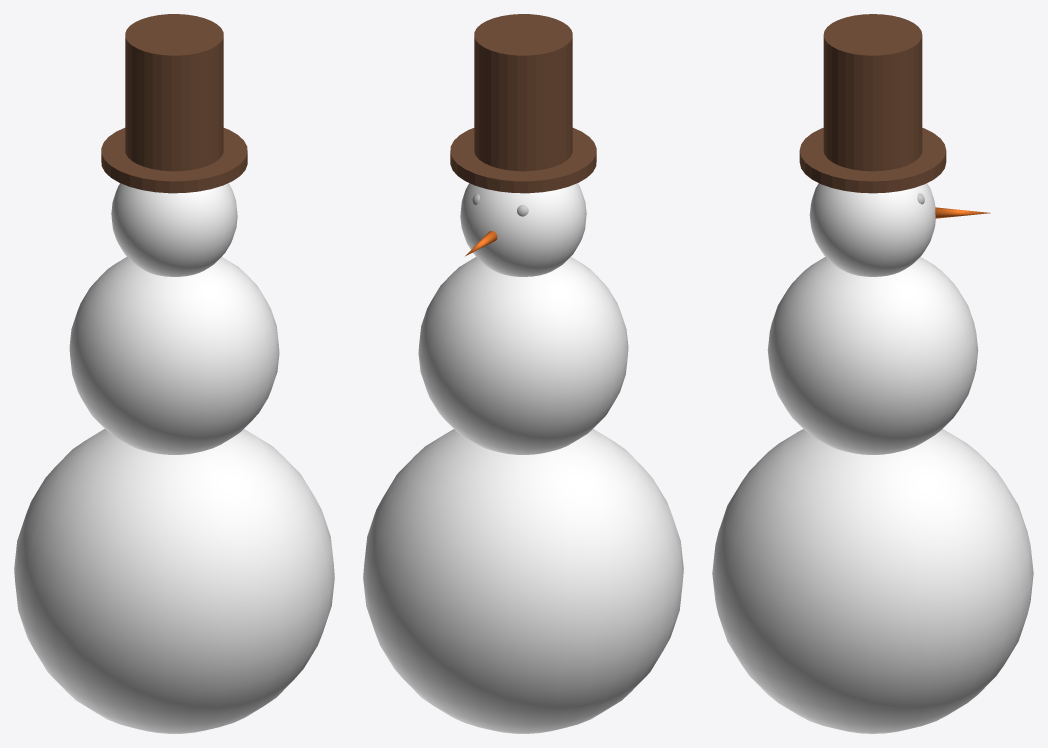
File: snowman.fbx
3 views of the same model, side by side, from view 1: azimuth 30°, elevation 25°; view 2: azimuth 150°, elevation 25°; view 3: azimuth 270°, elevation 25° (orthographic).
Visible parts, largest first — view 1: bottom_sphere, middle_sphere, Hat, top_sphere; view 2: bottom_sphere, middle_sphere, Hat, top_sphere; view 3: bottom_sphere, middle_sphere, Hat, top_sphere.
Part boxes in pixels (box(x1,y1,x2,y2)): bottom_sphere: box(14, 429, 334, 733); middle_sphere: box(69, 257, 279, 454); Hat: box(101, 14, 247, 193); top_sphere: box(111, 183, 237, 276); bottom_sphere: box(363, 429, 683, 733); middle_sphere: box(418, 257, 628, 454); Hat: box(450, 14, 596, 193); top_sphere: box(460, 183, 586, 276); bottom_sphere: box(712, 429, 1033, 733); middle_sphere: box(767, 257, 978, 454); Hat: box(799, 14, 946, 193); top_sphere: box(809, 183, 935, 276).
Bounding box in the file's own units: 2 × 4.7 × 2.
